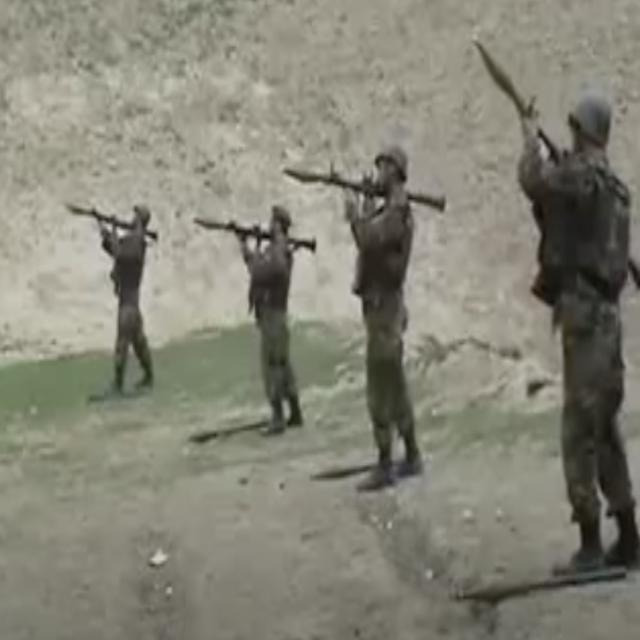bazooka: (281, 149, 455, 214), (195, 203, 326, 267), (61, 185, 171, 250)
